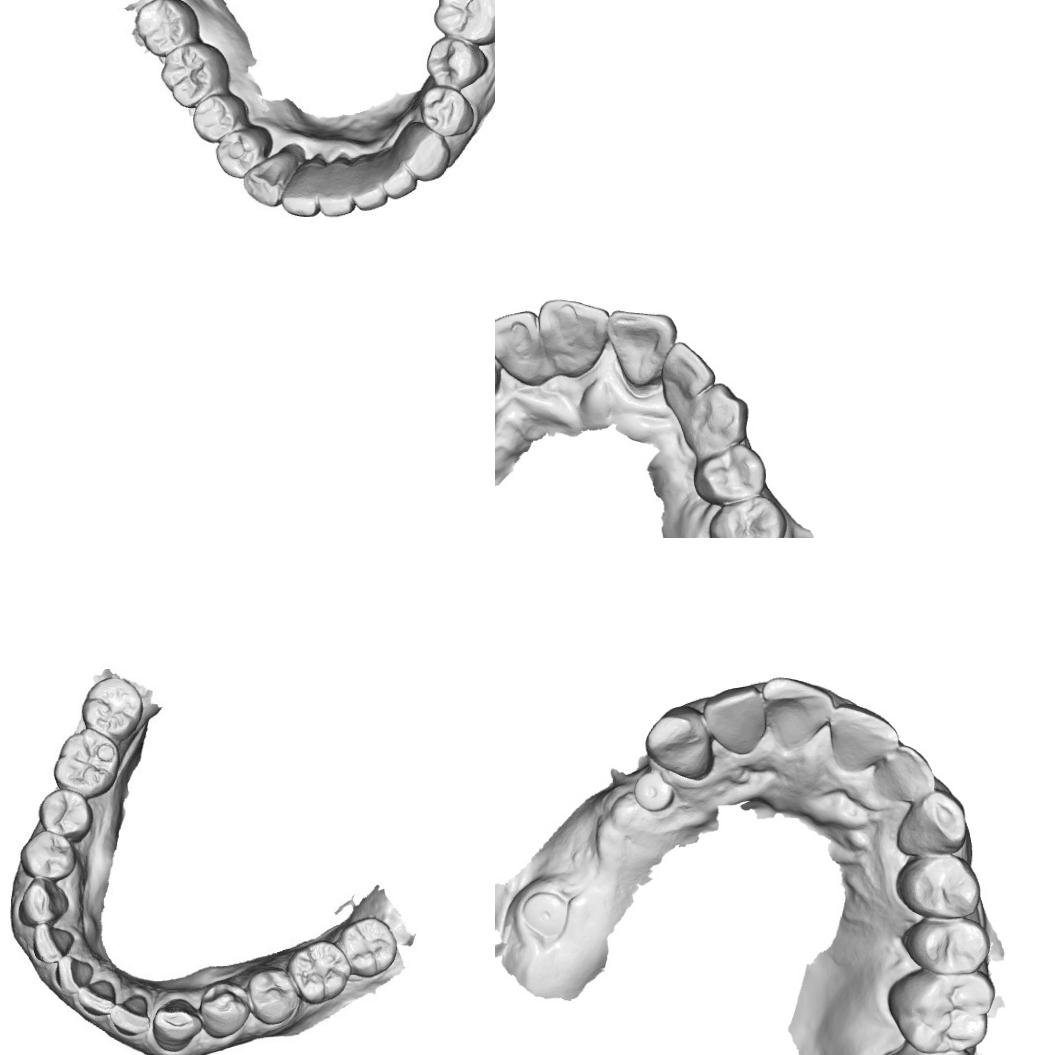canine: (890, 786, 970, 858), (682, 382, 750, 463), (647, 705, 718, 781), (242, 149, 296, 208), (396, 126, 450, 182), (149, 997, 201, 1055), (18, 874, 69, 922)
implant: (518, 888, 570, 938), (632, 768, 676, 814)
incisor: (756, 668, 834, 756), (538, 296, 610, 378), (608, 308, 678, 391), (703, 683, 772, 761), (829, 701, 902, 769), (659, 338, 718, 411), (495, 308, 544, 386), (875, 742, 939, 801), (280, 158, 326, 217), (320, 154, 362, 214), (107, 988, 148, 1038), (352, 155, 388, 209), (34, 924, 70, 963), (56, 954, 94, 990), (81, 977, 116, 1016), (383, 152, 410, 198)
molar: (884, 969, 1001, 1054), (158, 42, 236, 106), (52, 726, 115, 800), (78, 675, 142, 739), (134, 0, 203, 56), (296, 942, 350, 1002), (341, 920, 395, 974), (434, 0, 495, 46)
premolar: (894, 852, 980, 920), (901, 914, 993, 977), (690, 442, 770, 505), (423, 37, 492, 89), (705, 495, 785, 538), (214, 125, 274, 182), (419, 84, 478, 136), (193, 89, 250, 142), (200, 981, 249, 1036), (253, 972, 296, 1024), (42, 791, 88, 834), (25, 836, 72, 877)
